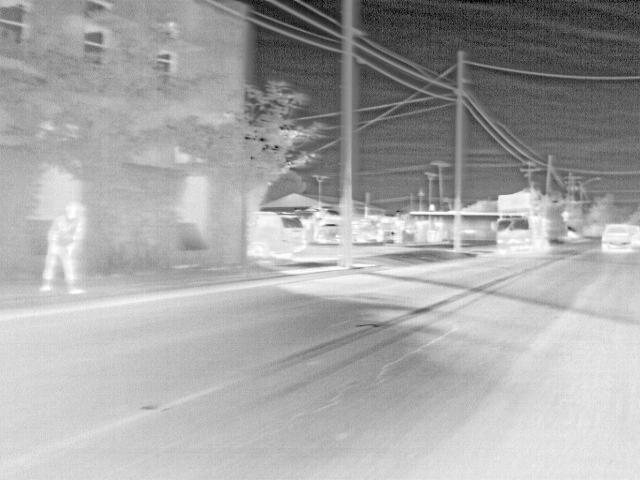car: (258, 212, 308, 259), (495, 215, 548, 254), (601, 222, 633, 252), (314, 221, 339, 246), (629, 227, 639, 246)
person: (38, 200, 89, 295)
